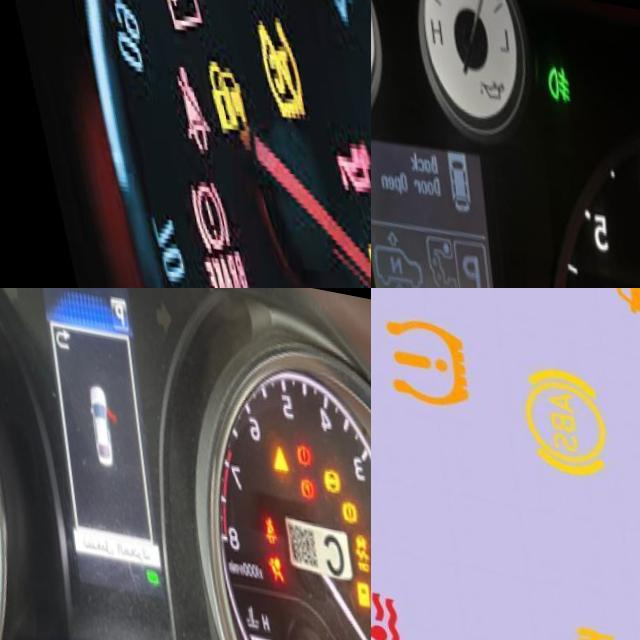Electronic Power Steering: (312, 630, 336, 640)
Seat Belt: (169, 59, 207, 145), (257, 499, 272, 529)
